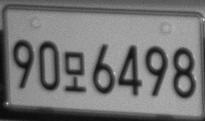0: (37, 40, 60, 91)
4: (117, 44, 143, 96)
6: (92, 43, 116, 95)
8: (171, 46, 197, 99)
9: (144, 44, 169, 97), (12, 38, 35, 89)
모: (63, 50, 86, 92)
